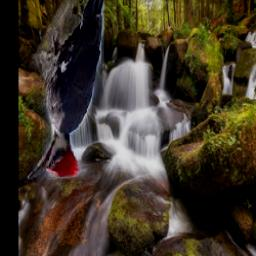Woodpecker: (29, 0, 105, 179)
